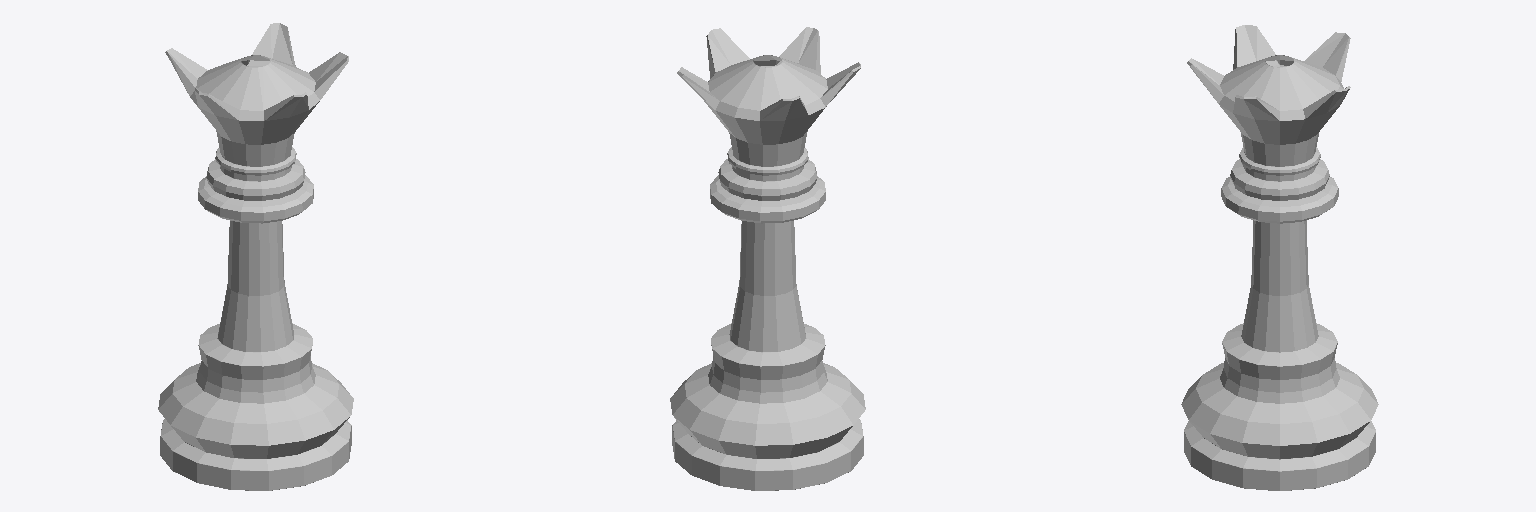
The model's file is chess_queen.obj.
3 renders of one model, left to right at view 1: azimuth 30°, elevation 25°; view 2: azimuth 150°, elevation 25°; view 3: azimuth 270°, elevation 25°, orthographic.
Parts seen in each view (by area): view 1: Mesh.022_Sphere64; view 2: Mesh.022_Sphere64; view 3: Mesh.022_Sphere64.
Boxes of the visible parts, x1,y1,x2,y2 form: Mesh.022_Sphere64: [158, 23, 353, 490]; Mesh.022_Sphere64: [670, 27, 865, 490]; Mesh.022_Sphere64: [1181, 25, 1378, 490].
Bounding box in the file's own units: 7.68 × 16.72 × 7.67.